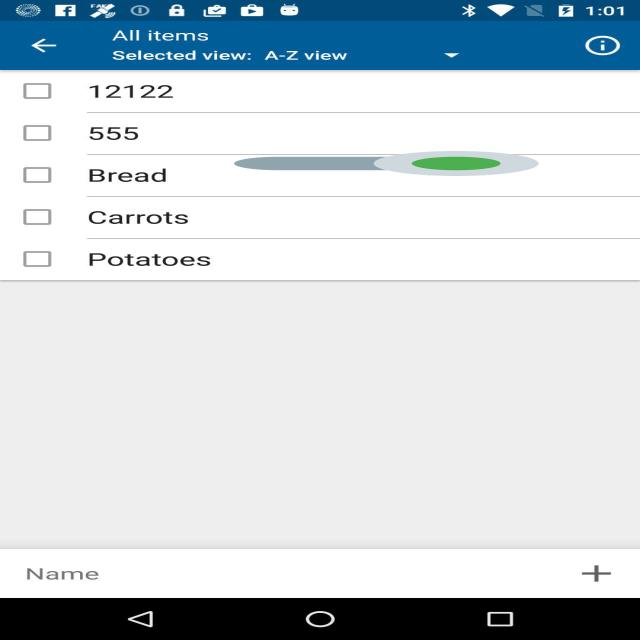social proof: (234, 140, 539, 187)
